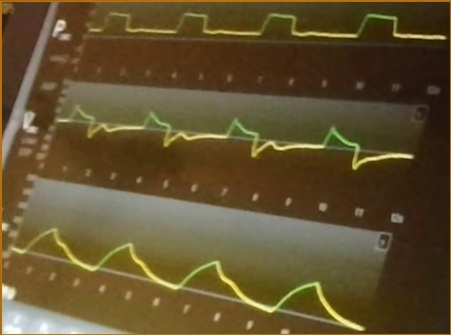Premature_cycling Flow: (60, 99, 413, 171)
Premature_cycling Volume: (15, 225, 364, 330)
